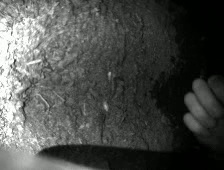corn: (103, 101, 109, 111), (107, 71, 112, 80)
